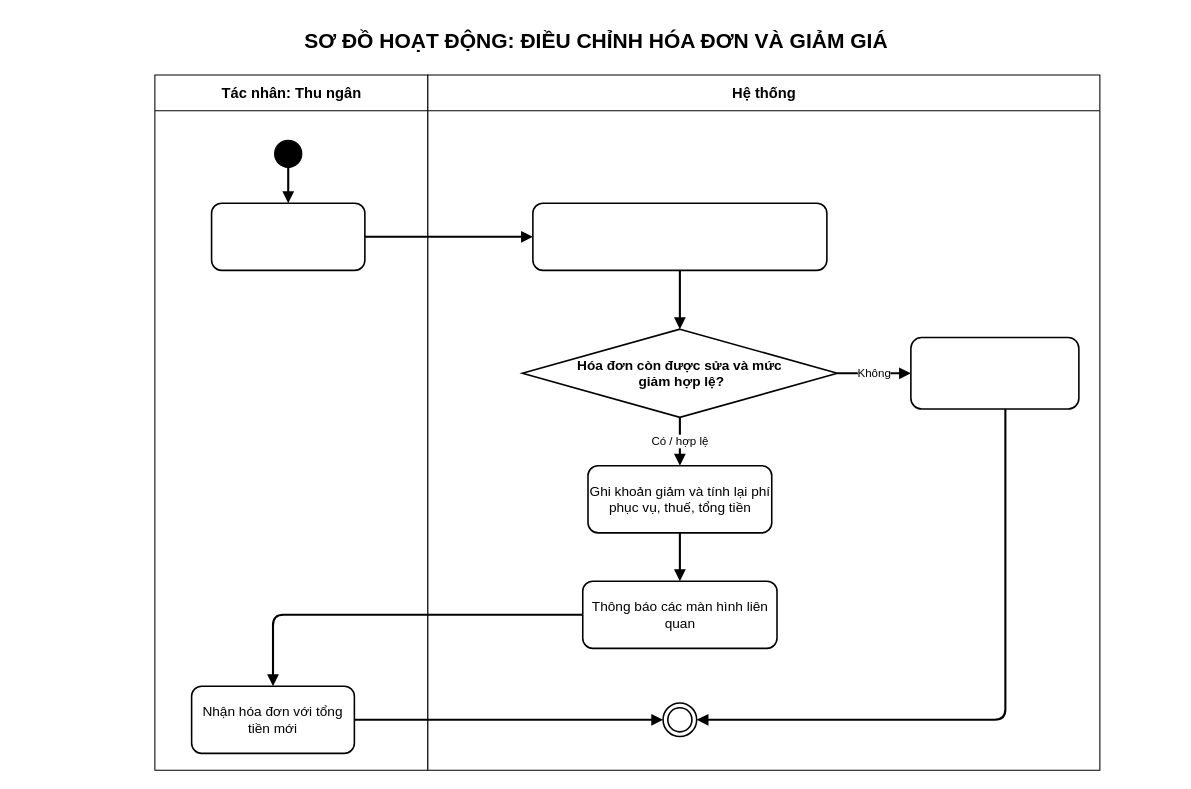
Some shapes in this 1191 by 789 pixel diagram are drawn without their labels. Each missing label, with the box of its shape:
Kiểm tra trạng thái hóa đơn: (532, 202, 827, 271)
Nhập số tiền giảm và lý do: (210, 202, 365, 271)
Từ chối hóa đơn đã thanh toá: (910, 336, 1079, 409)
